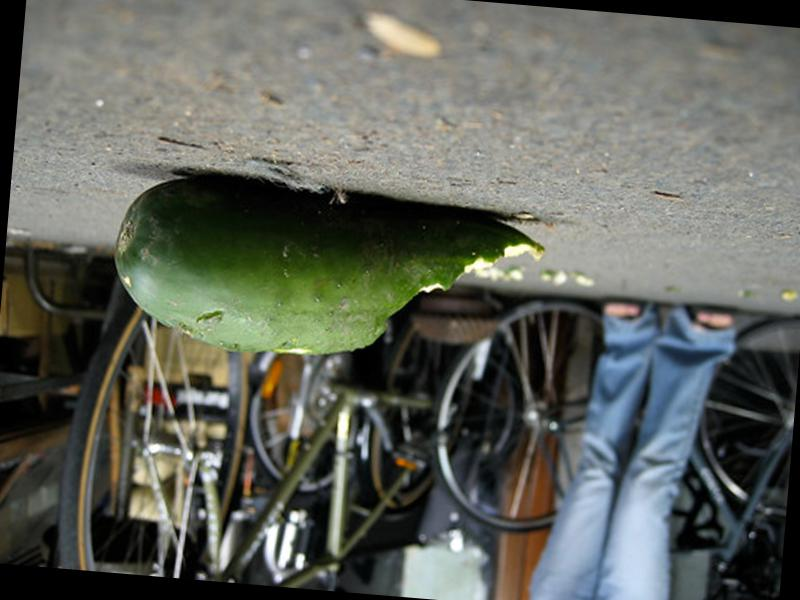Cucumber: (109, 173, 553, 375)
